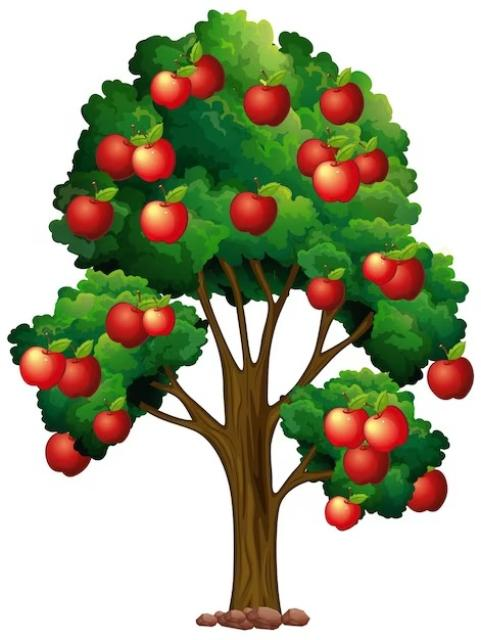Apple: (428, 341, 474, 399), (66, 196, 114, 241), (364, 405, 409, 452), (230, 192, 278, 236), (46, 432, 91, 476), (106, 302, 149, 348), (20, 346, 66, 389), (312, 162, 360, 202), (320, 82, 364, 125), (140, 202, 186, 243), (244, 85, 290, 126), (132, 139, 175, 182), (96, 134, 136, 180), (59, 355, 101, 398), (344, 445, 390, 484), (324, 409, 368, 448), (408, 470, 448, 512), (151, 71, 191, 109), (298, 139, 338, 176), (92, 409, 131, 444), (306, 278, 345, 311), (380, 262, 414, 299), (325, 496, 361, 530), (354, 149, 389, 183), (362, 252, 398, 284), (400, 258, 425, 299), (142, 305, 175, 336), (189, 65, 216, 98)
